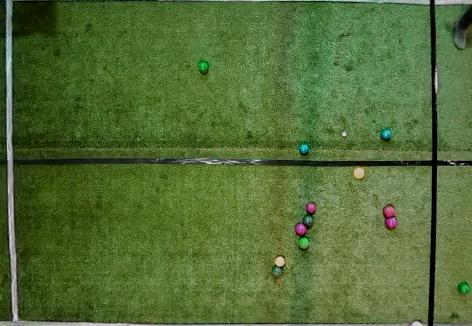blue: (299, 143, 309, 154), (381, 130, 391, 140)
green: (298, 237, 310, 249), (302, 215, 314, 226), (458, 283, 470, 294), (272, 266, 282, 277), (199, 61, 208, 72)
red: (383, 205, 395, 217), (385, 217, 397, 229), (295, 223, 306, 236), (306, 203, 316, 214), (411, 320, 426, 325)
vline: (428, 1, 472, 325), (0, 1, 23, 325)
white: (342, 132, 347, 137)
yellow: (354, 167, 365, 179), (275, 257, 285, 267)
